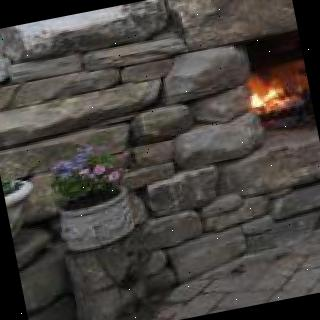fire: (230, 59, 300, 116)
